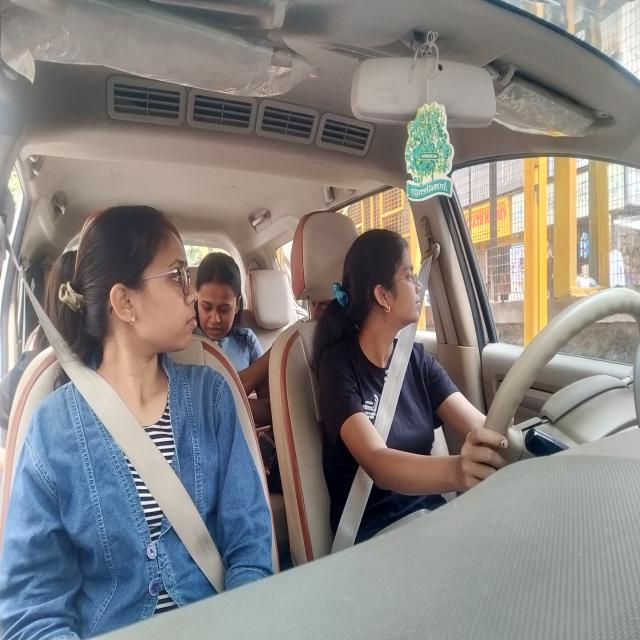LeftRight: (332, 202, 438, 370)
person: (68, 196, 208, 385), (191, 246, 250, 348)
